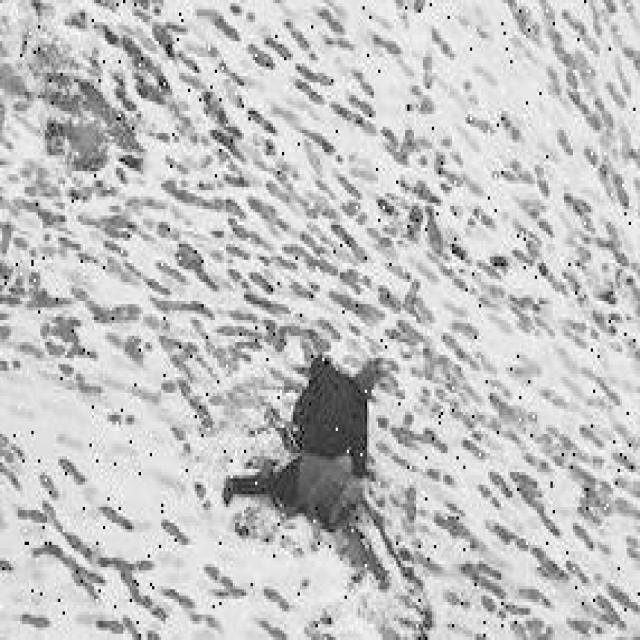fall: (226, 447, 382, 561)
